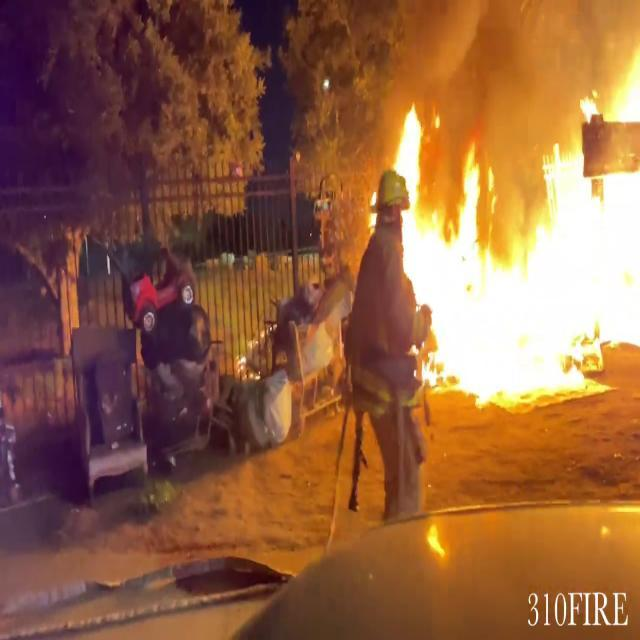Fire: (390, 24, 640, 410)
